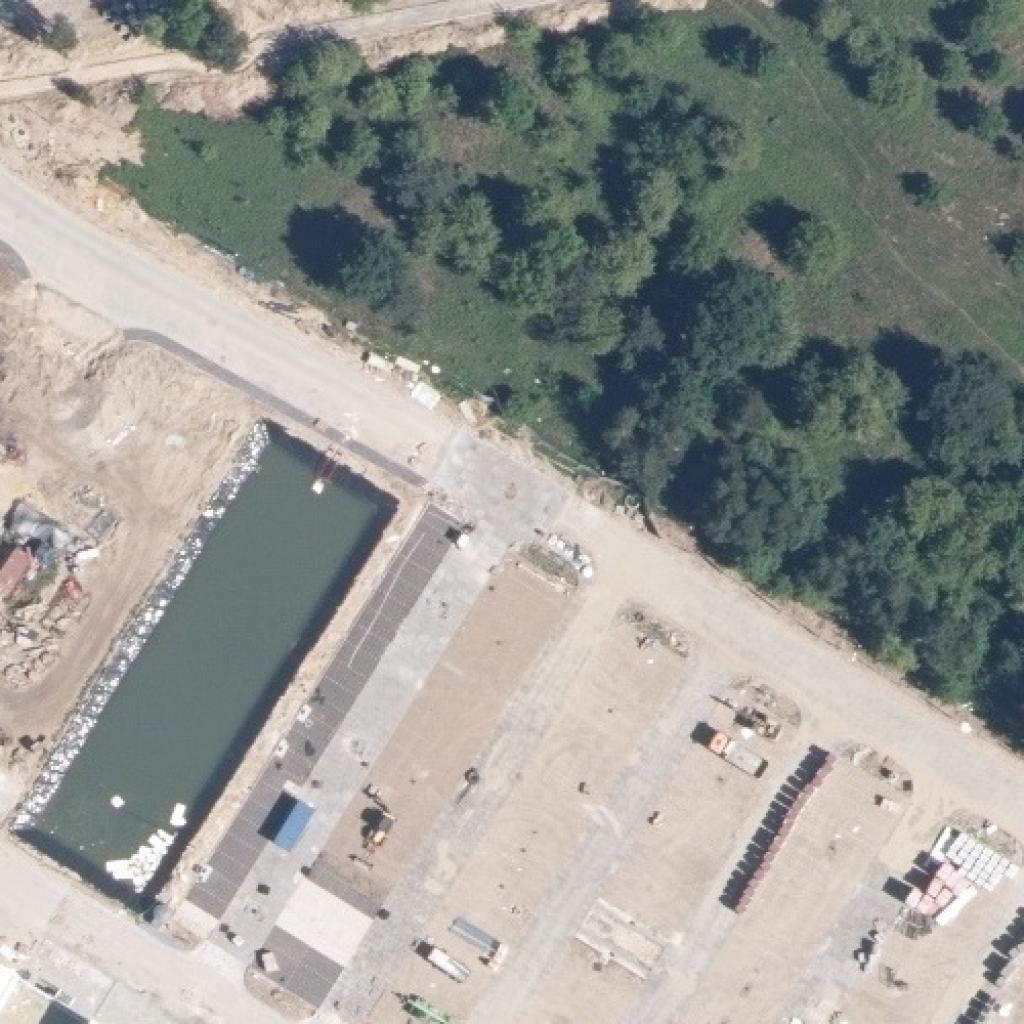ciezarowka: (707, 723, 774, 790)
kontener: (260, 790, 311, 850)
koparka: (350, 808, 400, 874)
